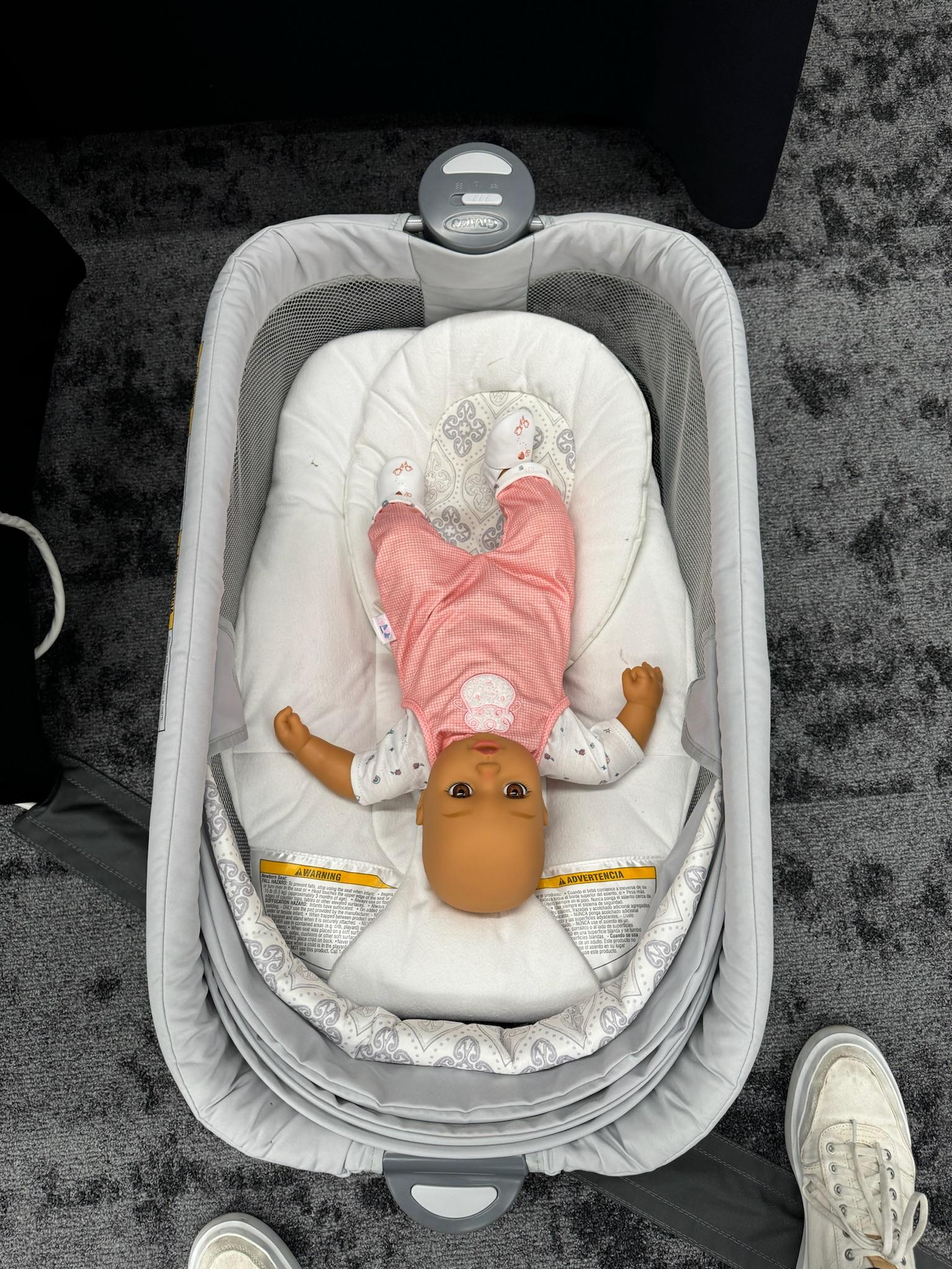baby: (285, 424, 669, 918)
